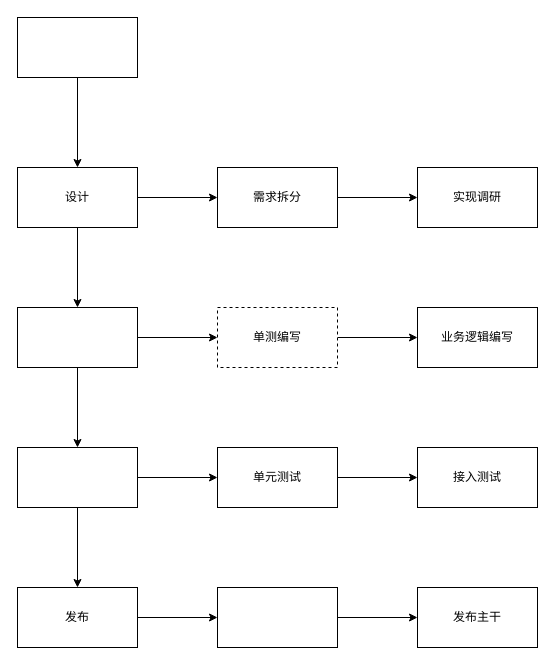
Image size: 555x665. Some labels were removed from this diagram. Here are the shapes that lost their labels. From the top down, the centre of each, then its label:
the point at 77,47: 需求
the point at 77,337: 研发
the point at 77,477: 测试
the point at 277,617: 合并分支
